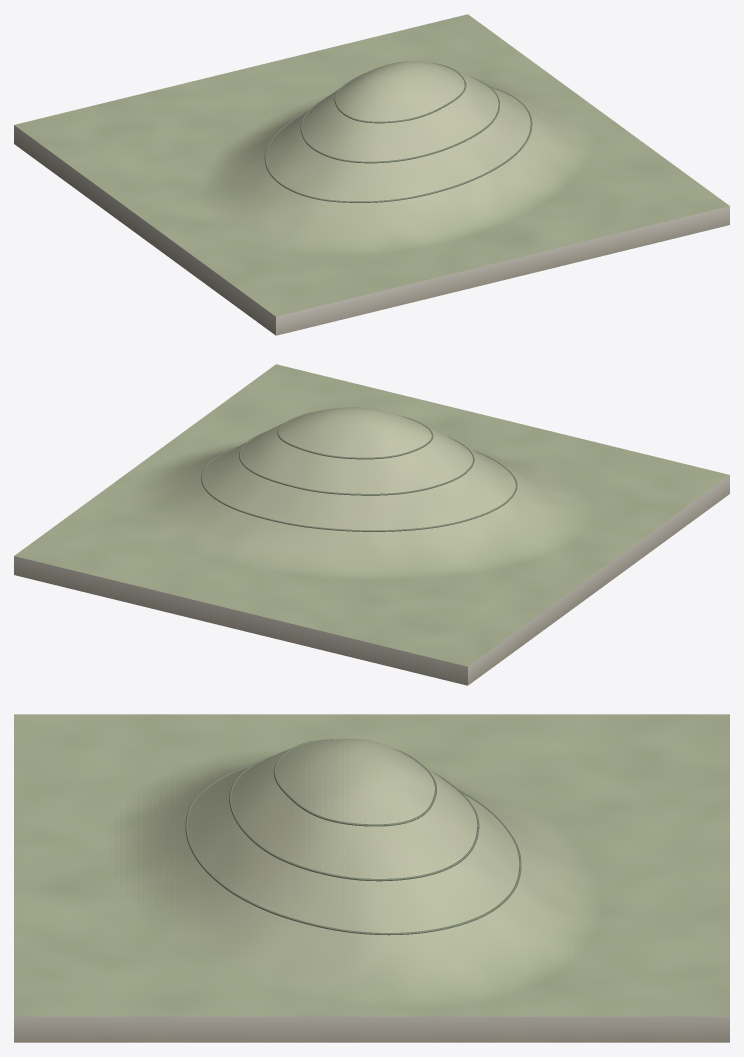
Rendered from terrain-gentle.glb.
3 views of the same model, one above another, from view 1: azimuth 30°, elevation 25°; view 2: azimuth 150°, elevation 25°; view 3: azimuth 270°, elevation 25° (orthographic). The views are drawn at different scales.
Parts seen in each view (by area): view 1: Gentle_Surface, Gentle_DioramaBase, Gentle_Contours; view 2: Gentle_Surface, Gentle_DioramaBase, Gentle_Contours; view 3: Gentle_Surface, Gentle_DioramaBase, Gentle_Contours.
Boxes of the visible parts, x1,y1,x2,y2 form: Gentle_Surface: (14,14,729,316); Gentle_DioramaBase: (14,125,729,335); Gentle_Contours: (264,63,532,202); Gentle_Surface: (14,364,729,666); Gentle_DioramaBase: (14,475,729,685); Gentle_Contours: (201,412,517,531); Gentle_Surface: (14,714,729,1016); Gentle_DioramaBase: (14,1016,729,1042); Gentle_Contours: (185,739,521,935).
Bounding box in the file's own units: 200 × 47.28 × 200.
